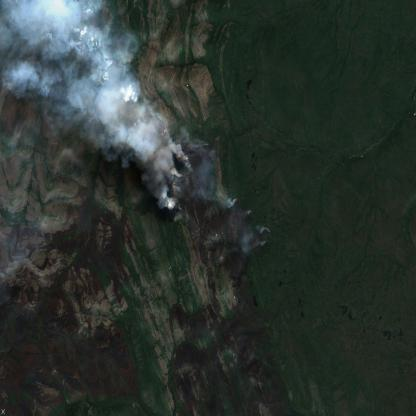fire: (161, 137, 272, 252)
